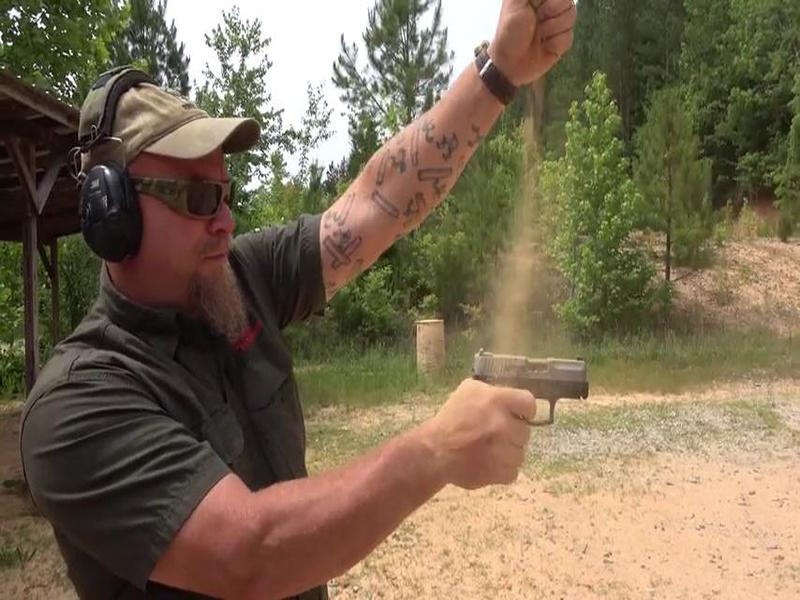Pistola: (469, 344, 599, 432)
